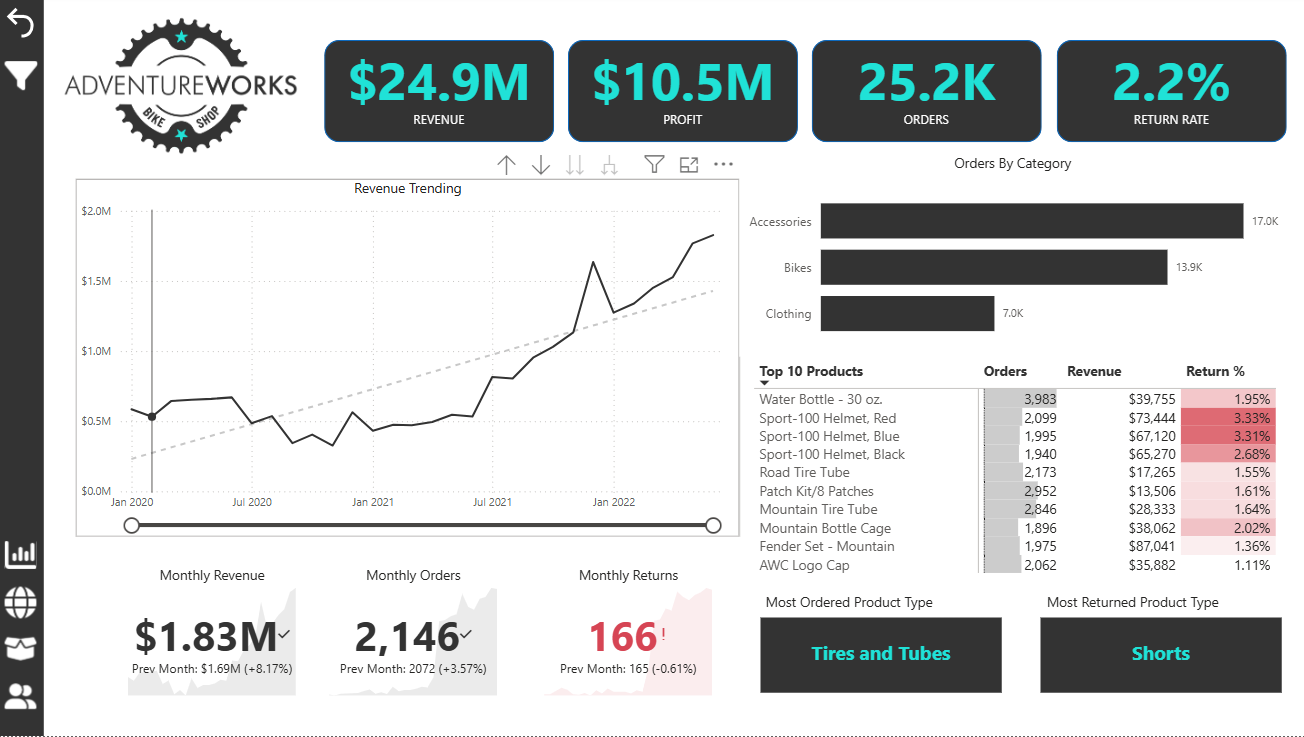

Layout of this report page (visuals, bound fields, positions):
{"tool":"powerbi","page":{"name":"Exec Dashboard","canvas":[1280,720],"ordinal":0},"visuals":[{"type":"image","title":"AW Logo","box":[35.5,0,288.6,167.5],"z":0},{"type":"card","fields":{"Values":["Measures Table.Total Revenue"]},"box":[323.8,1.2,215,166.2],"z":0,"group":"g2"},{"type":"group","id":"g1","title":"KPI Backgrounds","box":[318.8,38.7,941.2,100],"z":0,"group":"g3"},{"type":"shape","box":[318.8,38.7,225,100],"z":0,"group":"g1"},{"type":"actionButton","box":[1.8,523.4,45.2,39.1],"z":0,"group":"g4"},{"type":"shape","title":"Left Nav Background","box":[0,0,45,720],"z":1000},{"type":"group","id":"g2","title":"KPI Values","box":[323.8,1.2,931.2,166.2],"z":1000,"group":"g3"},{"type":"card","fields":{"Values":["Measures Table.Total Orders"]},"box":[801.3,1.2,215,166.2],"z":1000,"group":"g2"},{"type":"shape","box":[557.6,38.7,225,100],"z":1000,"group":"g1"},{"type":"actionButton","box":[1.8,569.5,45.2,39.1],"z":1000,"group":"g4"},{"type":"group","id":"g3","title":"KPI's","box":[318.8,1.2,941.2,166.2],"z":2000},{"type":"card","fields":{"Values":["Measures Table.Return Rate"]},"box":[1040,1.2,215,166.2],"z":2000,"group":"g2"},{"type":"shape","box":[796.3,38.7,225,100],"z":2000,"group":"g1"},{"type":"actionButton","box":[1.8,661.6,45.2,39.1],"z":2000,"group":"g4"},{"type":"card","fields":{"Values":["Measures Table.Total Profit"]},"box":[562.6,1.2,215,166.2],"z":3000,"group":"g2"},{"type":"shape","box":[1035,38.7,225,100],"z":3000,"group":"g1"},{"type":"lineChart","title":"Revenue Trending","fields":{"Y":["Measures Table.Total Revenue"],"Category":["Calendar Lookup.Year","Calendar Lookup.Start of Quarter","Calendar Lookup.Start of Month"]},"box":[75.7,174.3,650,350],"z":3000},{"type":"actionButton","box":[1.8,615.5,45.2,39.1],"z":3000,"group":"g4"},{"type":"kpi","title":"Monthly Revenue","fields":{"Indicator":["Measures Table.Total Revenue"],"TrendLine":["Calendar Lookup.Start of Month"],"Goal":["Measures Table.Previous Month Revenue"]},"box":[122.9,552.9,174.3,132.9],"z":4000},{"type":"kpi","title":"Monthly Orders","fields":{"TrendLine":["Calendar Lookup.Start of Month"],"Indicator":["Measures Table.Total Orders"],"Goal":["Measures Table.Previous Month Orders"]},"box":[318.6,552.9,174.3,132.9],"z":5000},{"type":"kpi","title":"Monthly Returns","fields":{"TrendLine":["Calendar Lookup.Start of Month"],"Indicator":["Measures Table.Total Returns"],"Goal":["Measures Table.Previous Month Returns"]},"box":[530,552.9,174.3,132.9],"z":6000},{"type":"clusteredBarChart","title":"Orders By Category","fields":{"Category":["Product Categories Lookup.CategoryName"],"Y":["Measures Table.Total Orders"]},"box":[725,150,535,198.8],"z":7000},{"type":"pivotTable","fields":{"Values":["Measures Table.Total Orders","Measures Table.Total Revenue","Measures Table.Return Rate"],"Rows":["Product Lookup.ProductName"]},"box":[734.9,348.5,524.6,223.8],"z":8000},{"type":"card","fields":{"Values":["Min(Product Subcategories Lookup.SubcategoryName)"]},"box":[745.9,603.8,236,73.4],"z":9000},{"type":"textbox","box":[745.9,574.4,183.4,29.3],"z":10000},{"type":"card","fields":{"Values":["Min(Product Subcategories Lookup.SubcategoryName)"]},"box":[1019.8,603.8,236,73.4],"z":11000},{"type":"textbox","box":[1021.1,574.4,190.8,29.3],"z":12000},{"type":"actionButton","box":[2.4,2.4,45.2,39.1],"z":13000},{"type":"group","id":"g4","title":"Navigation Buttons","box":[1.8,523.4,45.2,177.3],"z":14000},{"type":"actionButton","box":[2.4,53.8,45.2,40.4],"z":15000}]}

Visuals, with their boxes on the page's 1280x720 design canvas (x1, y1, x2, y2). These are canvas units, not pixel positions in the 1304x737 screenshot, which may show the page scaled, cropped or inside an application window:
"AW Logo" image: l=36, t=0, r=324, b=168
card - Measures Table.Total Revenue: l=324, t=1, r=539, b=167
"KPI Backgrounds" group: l=319, t=39, r=1260, b=139
shape: l=319, t=39, r=544, b=139
actionButton: l=2, t=523, r=47, b=562
"Left Nav Background" shape: l=0, t=0, r=45, b=720
"KPI Values" group: l=324, t=1, r=1255, b=167
card - Measures Table.Total Orders: l=801, t=1, r=1016, b=167
shape: l=558, t=39, r=783, b=139
actionButton: l=2, t=570, r=47, b=609
"KPI's" group: l=319, t=1, r=1260, b=167
card - Measures Table.Return Rate: l=1040, t=1, r=1255, b=167
shape: l=796, t=39, r=1021, b=139
actionButton: l=2, t=662, r=47, b=701
card - Measures Table.Total Profit: l=563, t=1, r=778, b=167
shape: l=1035, t=39, r=1260, b=139
"Revenue Trending" lineChart: l=76, t=174, r=726, b=524
actionButton: l=2, t=616, r=47, b=655
"Monthly Revenue" kpi: l=123, t=553, r=297, b=686
"Monthly Orders" kpi: l=319, t=553, r=493, b=686
"Monthly Returns" kpi: l=530, t=553, r=704, b=686
"Orders By Category" clusteredBarChart: l=725, t=150, r=1260, b=349
pivotTable - Measures Table.Total Orders x Measures Table.Total Revenue: l=735, t=348, r=1260, b=572
card - Min(Product Subcategories Lookup.SubcategoryName): l=746, t=604, r=982, b=677
textbox: l=746, t=574, r=929, b=604
card - Min(Product Subcategories Lookup.SubcategoryName): l=1020, t=604, r=1256, b=677
textbox: l=1021, t=574, r=1212, b=604
actionButton: l=2, t=2, r=48, b=42
"Navigation Buttons" group: l=2, t=523, r=47, b=701
actionButton: l=2, t=54, r=48, b=94
